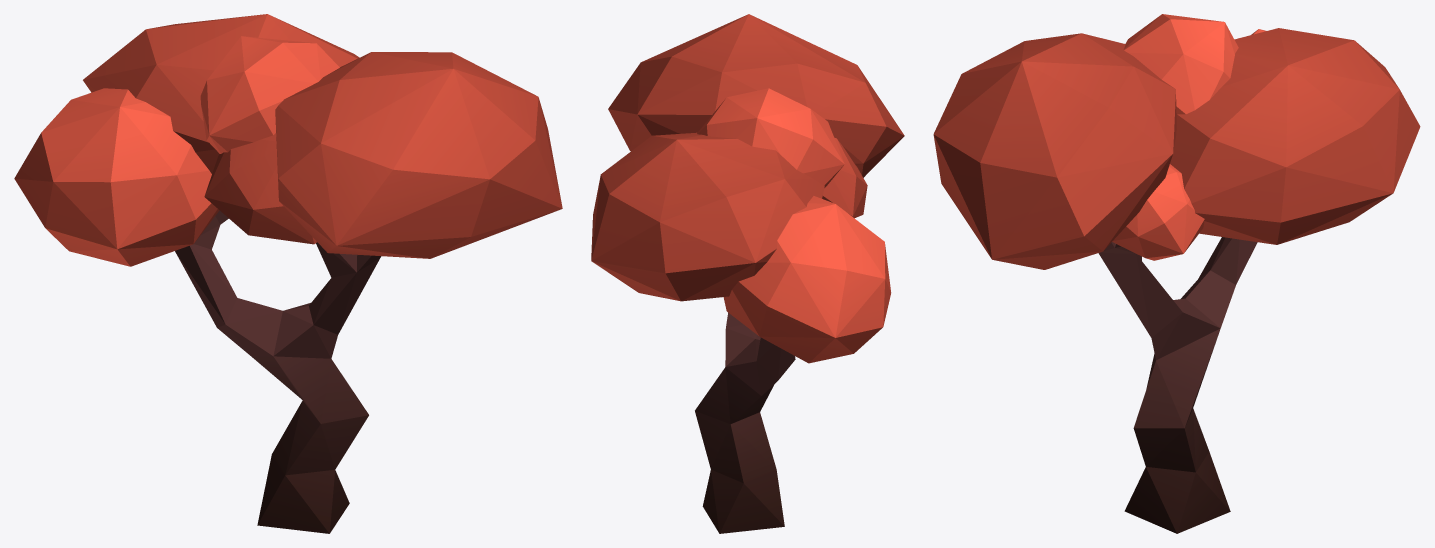
File: RedTree2.fbx
3 renders of one model, left to right at view 1: azimuth 30°, elevation 25°; view 2: azimuth 150°, elevation 25°; view 3: azimuth 270°, elevation 25°, orthographic. The views are drawn at different scales.
Parts seen in each view (by area): view 1: RedTree2; view 2: RedTree2; view 3: RedTree2.
Boxes of the visible parts, <box> form: RedTree2: <box>14,14,562,533</box>; RedTree2: <box>591,14,904,533</box>; RedTree2: <box>933,14,1420,533</box>.
Bounding box in the file's own units: 404 × 463 × 421.
